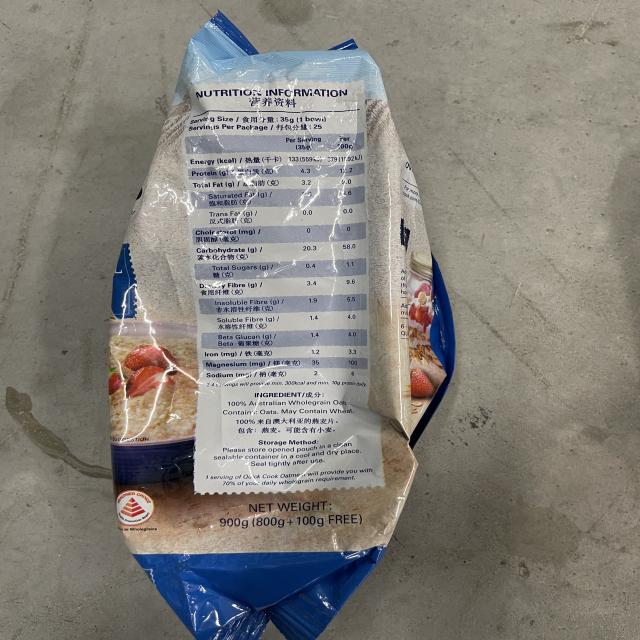object_name: (129, 53, 413, 598)
